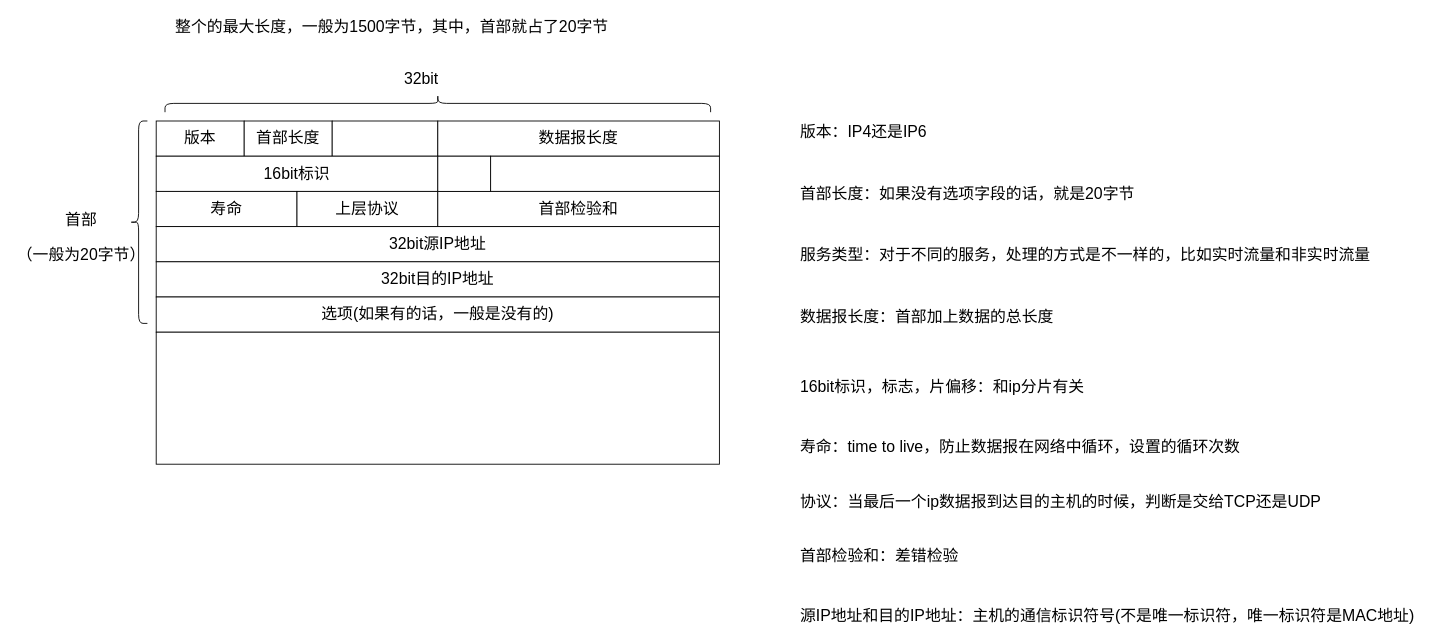
Image size: 1438x642. Some labels were removed from this diagram. The centre of each missing label's shape, as x and y in pixels:
"13bit片偏移" belongs at (x=604, y=173).
"数据" belongs at (x=437, y=397).
"服务类型" belongs at (x=384, y=138).
"标志" belongs at (x=464, y=173).
